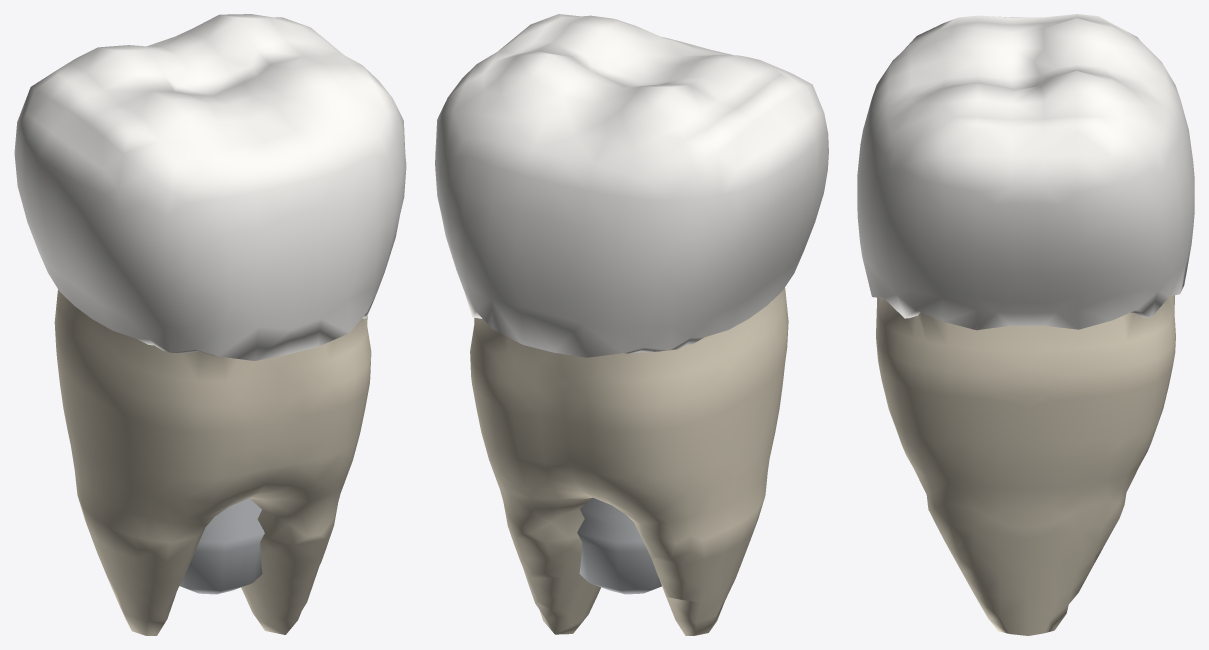
3 views of the same model, side by side, from view 1: azimuth 30°, elevation 25°; view 2: azimuth 150°, elevation 25°; view 3: azimuth 270°, elevation 25° (orthographic). The views are drawn at different scales.
Parts seen in each view (by area): view 1: crown, root, implant; view 2: crown, root, implant; view 3: crown, root.
Boxes of the visible parts, x1,y1,x2,y2 form: crown: (14,14,406,360); root: (54,289,371,635); implant: (179,498,264,594); crown: (435,14,828,357); root: (470,288,788,635); implant: (577,498,661,594); crown: (857,14,1194,330); root: (876,295,1175,635).
Size of the model in its own units: 10.67 by 18.76 by 10.18.
